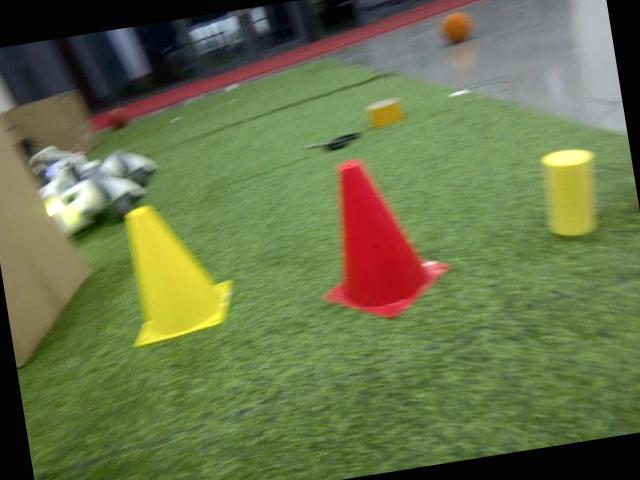orange_ball: (438, 8, 477, 47)
red_barrel: (298, 144, 457, 334)
yellow_barrel: (108, 190, 242, 350)
yellow_cylinder: (534, 144, 606, 245)
